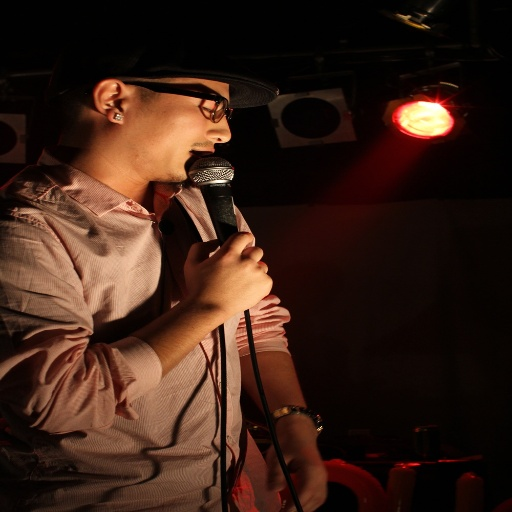hand: (166, 224, 276, 314), (264, 436, 331, 511)
